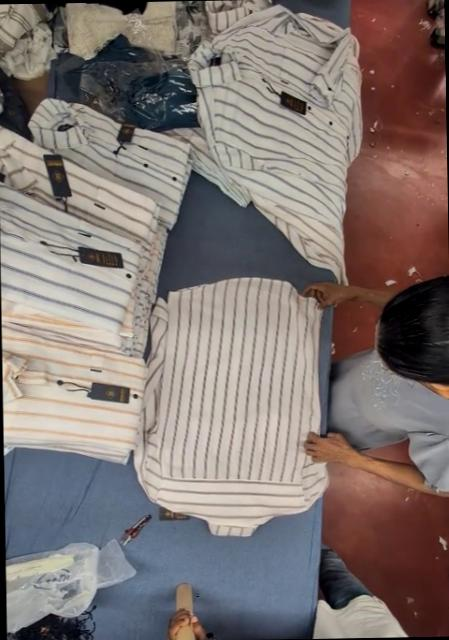new-garment: (132, 277, 326, 536)
